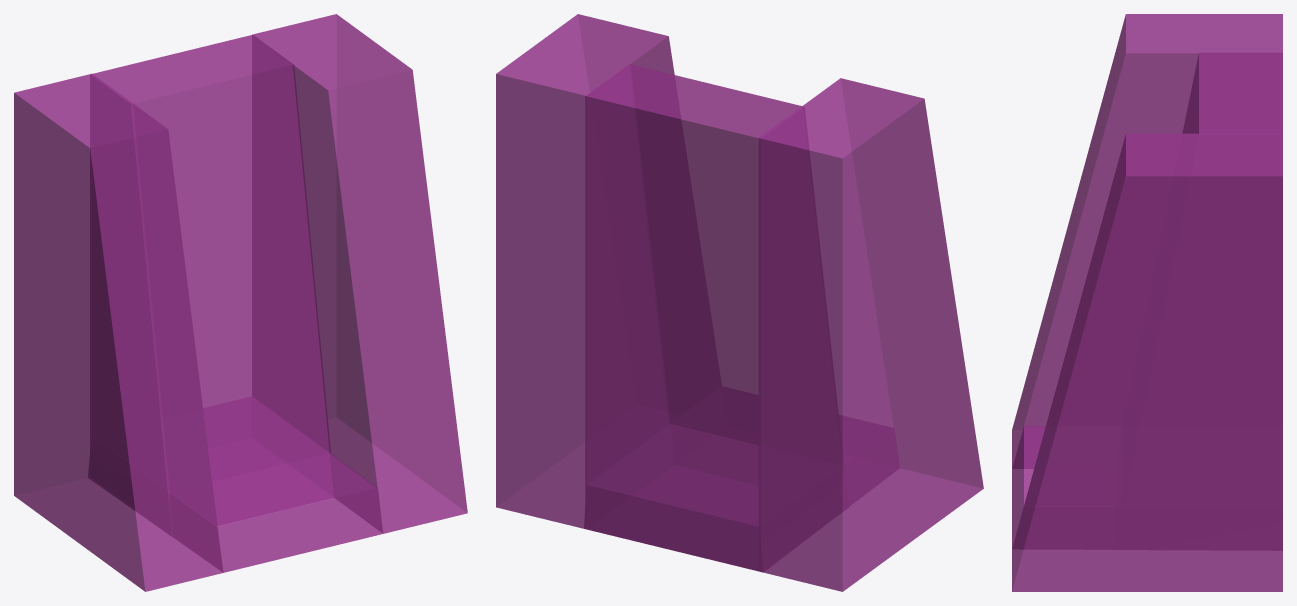
File: SM_Bld_Wall_Fort_Ground_03_Collision.fbx
3 views of the same model, side by side, from view 1: azimuth 30°, elevation 25°; view 2: azimuth 150°, elevation 25°; view 3: azimuth 270°, elevation 25° (orthographic). The views are drawn at different scales.
Parts seen in each view (by area): view 1: SM_Bld_Wall_Fort_Ground_03_Collision; view 2: SM_Bld_Wall_Fort_Ground_03_Collision; view 3: SM_Bld_Wall_Fort_Ground_03_Collision.
Part boxes in pixels (x1,y1,x2,y2): SM_Bld_Wall_Fort_Ground_03_Collision: [14, 14, 467, 591]; SM_Bld_Wall_Fort_Ground_03_Collision: [496, 14, 983, 591]; SM_Bld_Wall_Fort_Ground_03_Collision: [1012, 14, 1282, 591].
Bounding box in the file's own units: 504 × 602 × 355.
